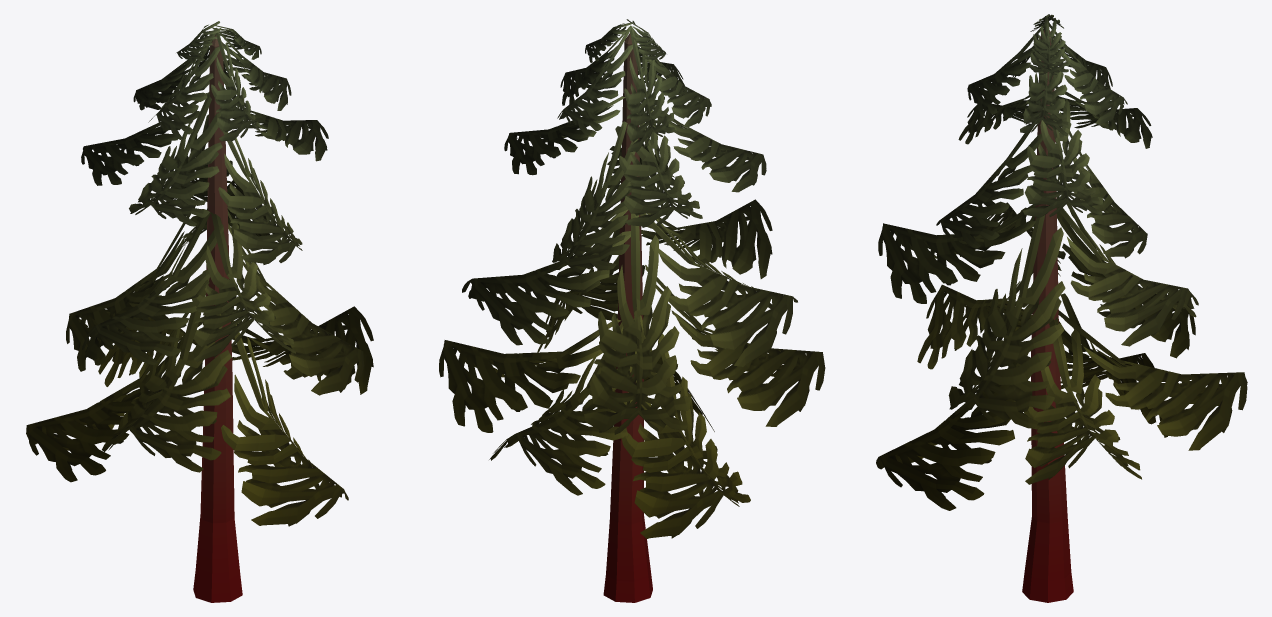
The model's file is synty-tree-pine-small-02.gltf.
3 renders of one model, left to right at view 1: azimuth 30°, elevation 25°; view 2: azimuth 150°, elevation 25°; view 3: azimuth 270°, elevation 25°, orthographic.
Visible parts, largest first — view 1: SM_Tree_Pine_Small_02; view 2: SM_Tree_Pine_Small_02; view 3: SM_Tree_Pine_Small_02.
Part boxes in pixels (<box>): SM_Tree_Pine_Small_02: <box>26,21,373,602</box>; SM_Tree_Pine_Small_02: <box>439,19,825,602</box>; SM_Tree_Pine_Small_02: <box>876,14,1247,602</box>.
Size of the model in its own units: 1.91 by 3.1 by 1.91.
Materials: 2 (2 with a texture image).
